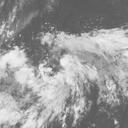cyclone: (36, 39, 119, 97)
